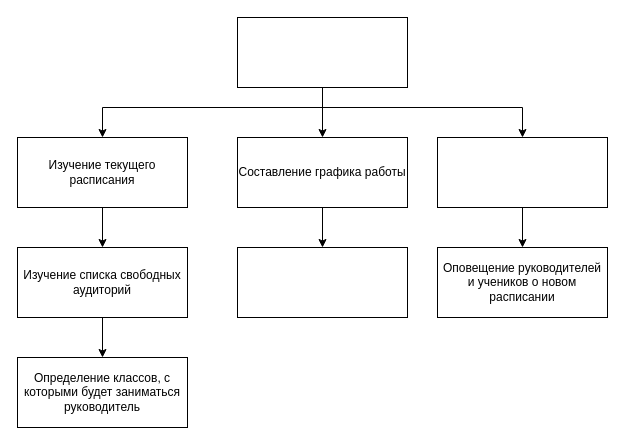
Some shapes in this 625 by 445 pixel diagram are drawn without their labels. The centre of each missing label's shape, as x and y in pixels:
Информирование: point 522,172
Определение рабочих дней и выходных: point 322,282
Формирование расписания руководителя по пению: point 322,52
